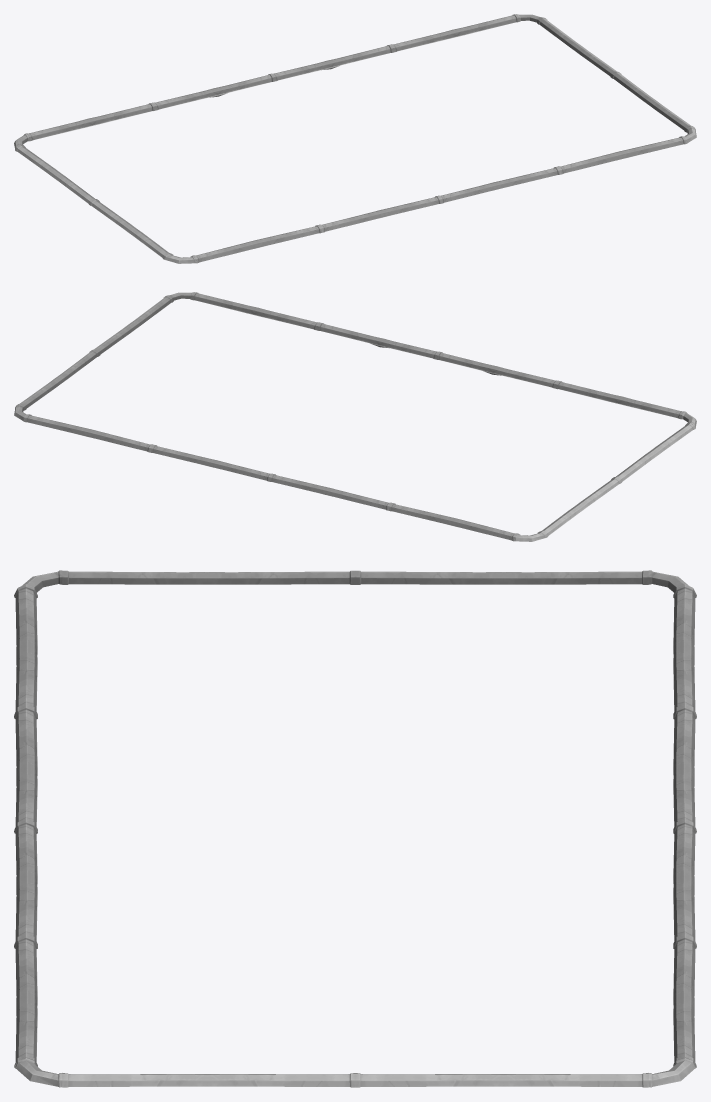
File: obj_pipes_alt.gltf
The picture shows the model from 3 angles, top to bottom: view 1: azimuth 30°, elevation 25°; view 2: azimuth 150°, elevation 25°; view 3: azimuth 270°, elevation 25°; orthographic projection. The views are drawn at different scales.
Visible parts, largest first — view 1: obj_pipes_alt; view 2: obj_pipes_alt; view 3: obj_pipes_alt.
Boxes of the visible parts, x1=… form: obj_pipes_alt: x1=14, y1=14, x2=696, y2=263; obj_pipes_alt: x1=14, y1=292, x2=696, y2=541; obj_pipes_alt: x1=14, y1=570, x2=696, y2=1087.
Size of what is drawn, in the model's own units: 14.45 by 0.1835 by 8.14.
Materials: 1 (1 with a texture image).
